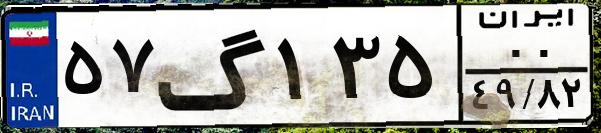0: (537, 27, 568, 80), (508, 27, 537, 80)
1: (270, 28, 330, 110)
2: (560, 70, 590, 125)
3: (330, 28, 385, 110)
4: (470, 70, 495, 125)
5: (385, 28, 445, 110), (57, 26, 110, 100)
7: (110, 28, 156, 98)
8: (535, 70, 560, 125)
9: (495, 70, 520, 125)
گ: (156, 12, 270, 120)
